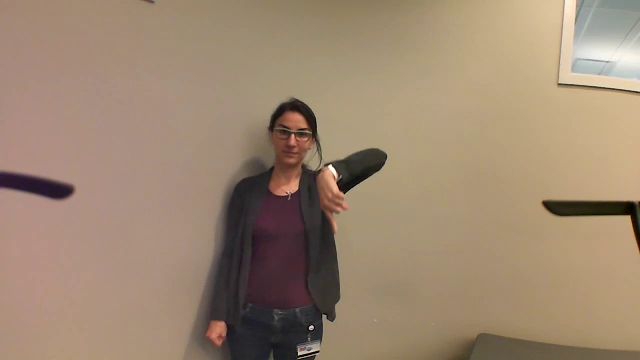down: (308, 160, 354, 235)
